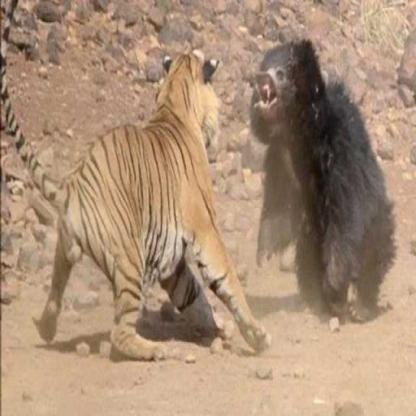Tiger: (39, 49, 296, 362)
